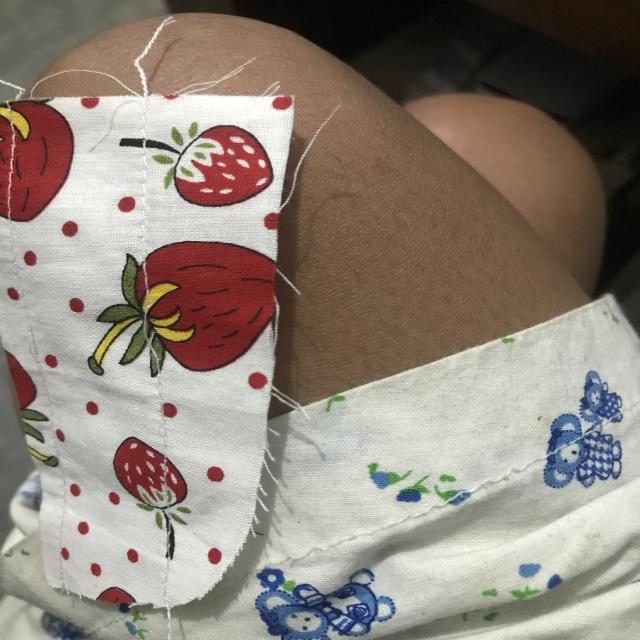skip: (129, 284, 171, 368)
